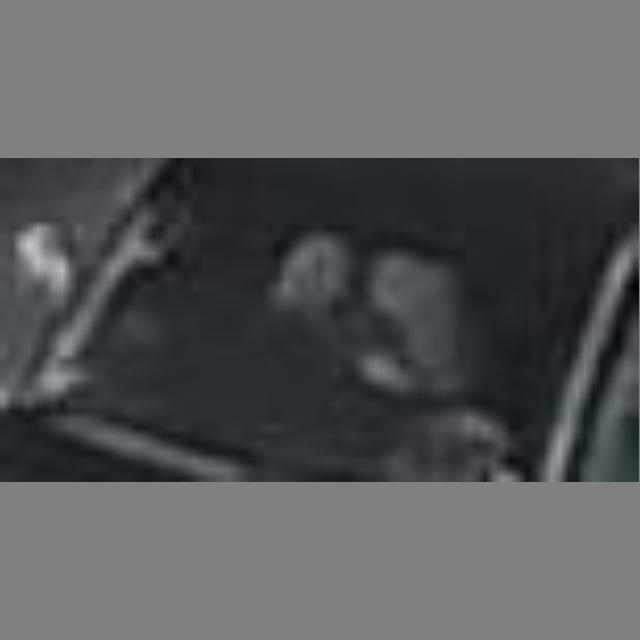pakai: (233, 233, 474, 399)
